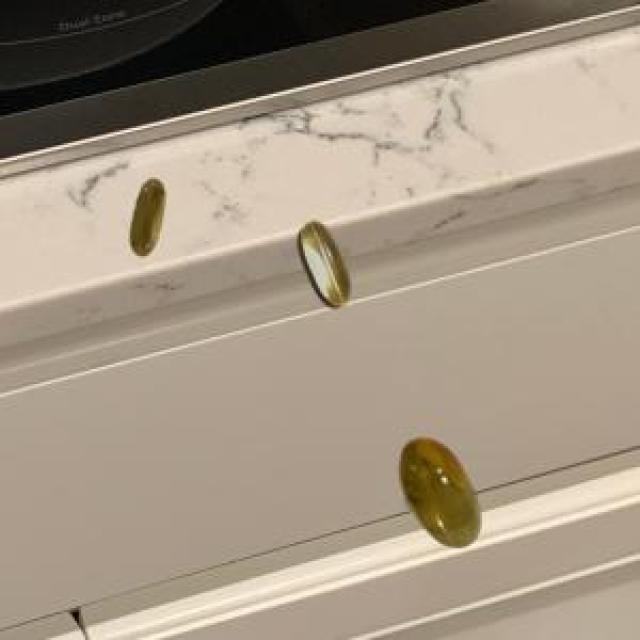Fish_Oil: (384, 419, 493, 560), (295, 210, 355, 316), (116, 172, 179, 264)
